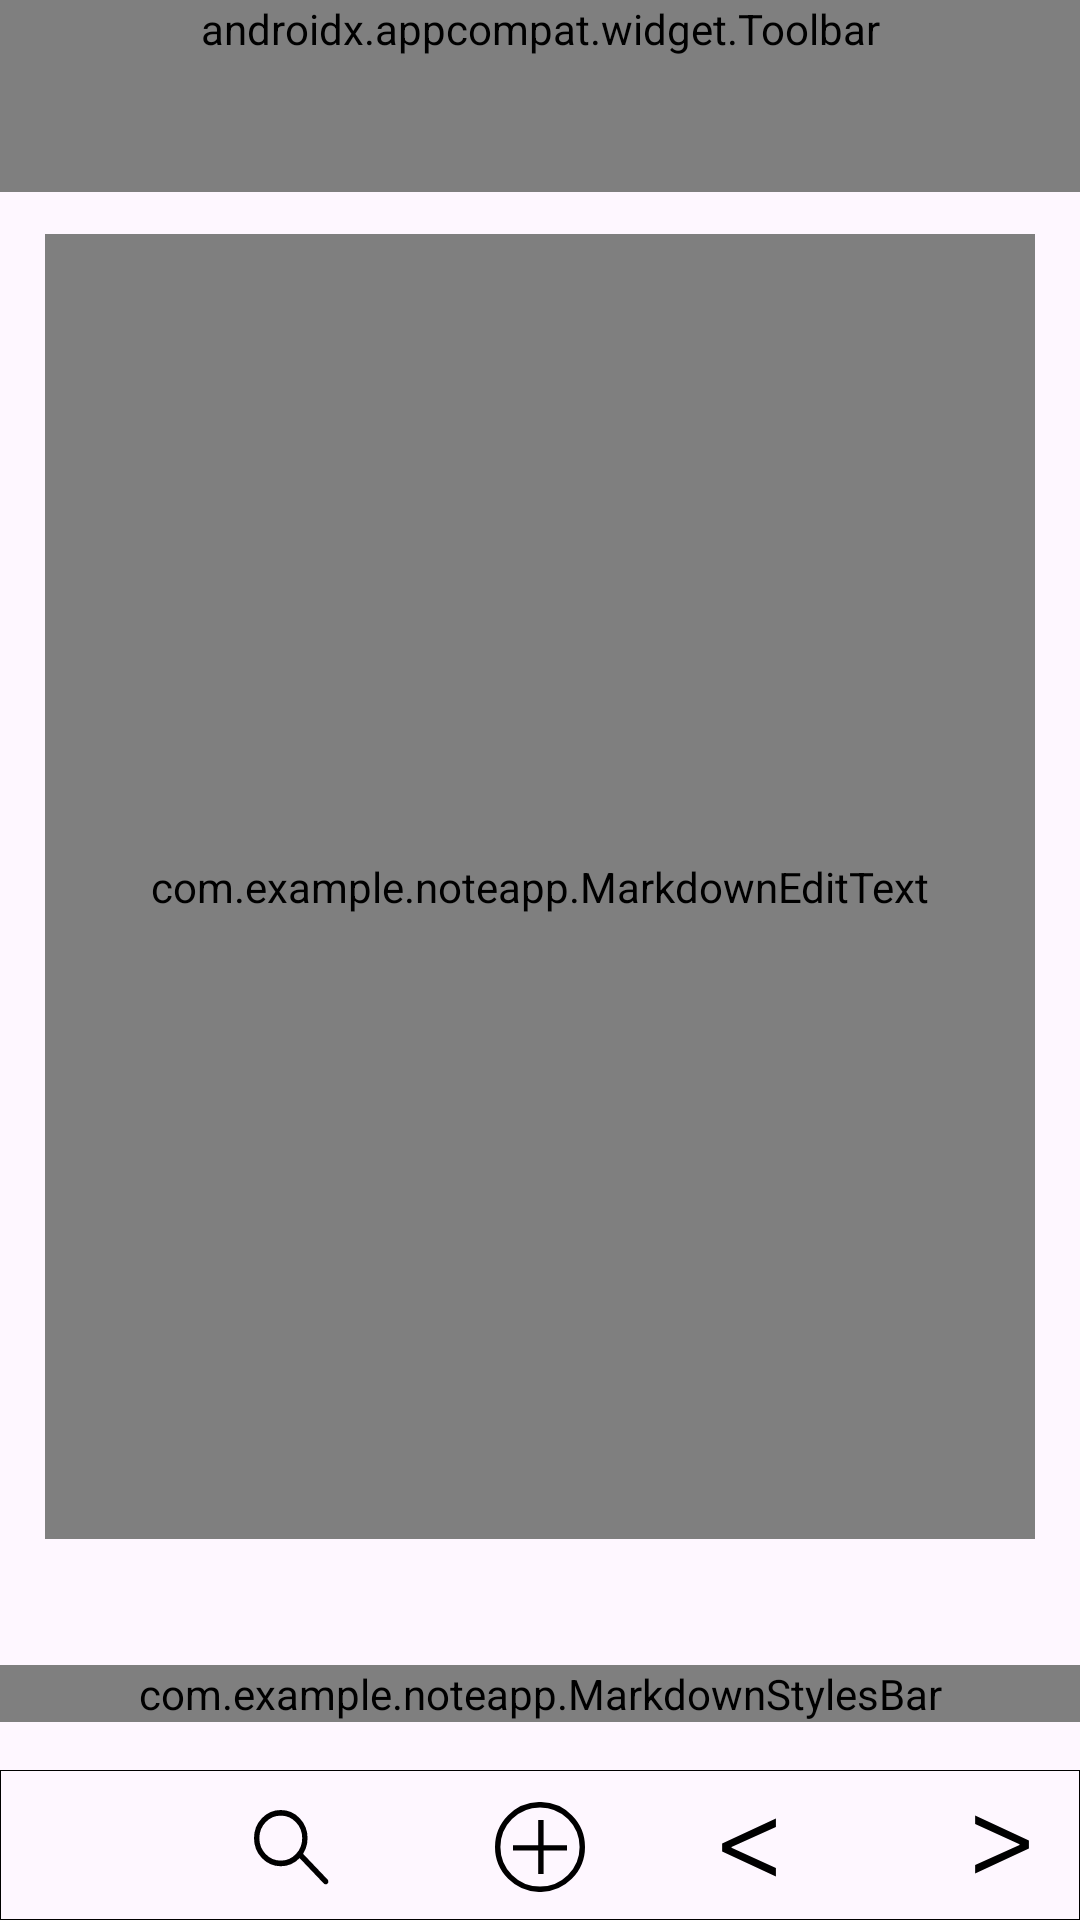

Point at icon controls on the screen. Image size 1080*1920, points as (x,y).
Add note: (540,1847)
Next note: (1002,1844)
Previous note: (749,1847)
Search: (291,1847)
